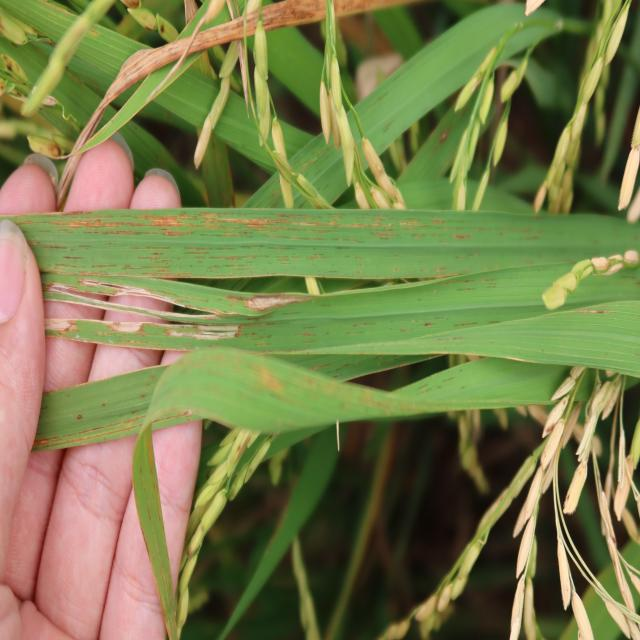Dom soc vi khuan: (183, 241, 296, 279), (277, 211, 439, 235), (142, 210, 277, 238), (124, 244, 186, 277), (66, 215, 145, 236), (167, 325, 243, 343), (246, 295, 309, 311), (110, 321, 145, 334)
